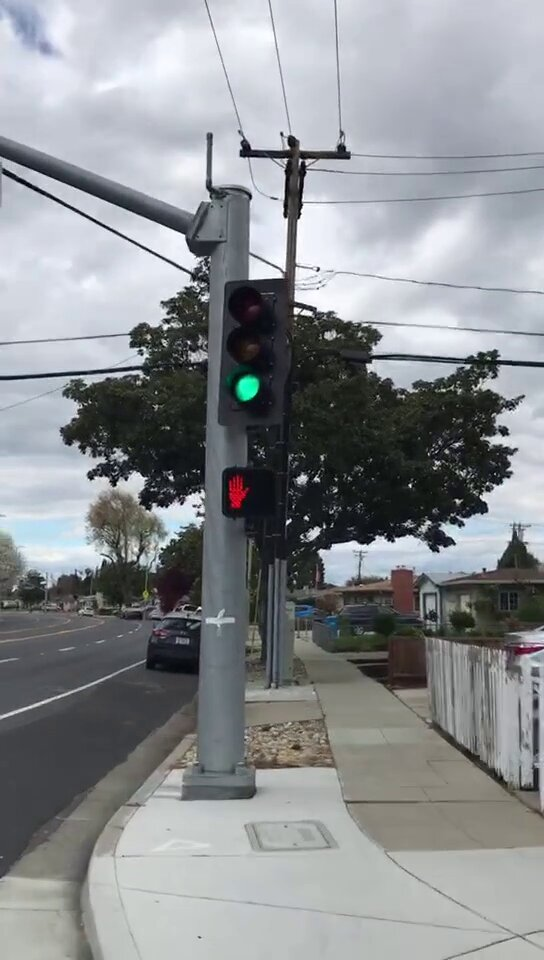green_light: (226, 280, 286, 425)
